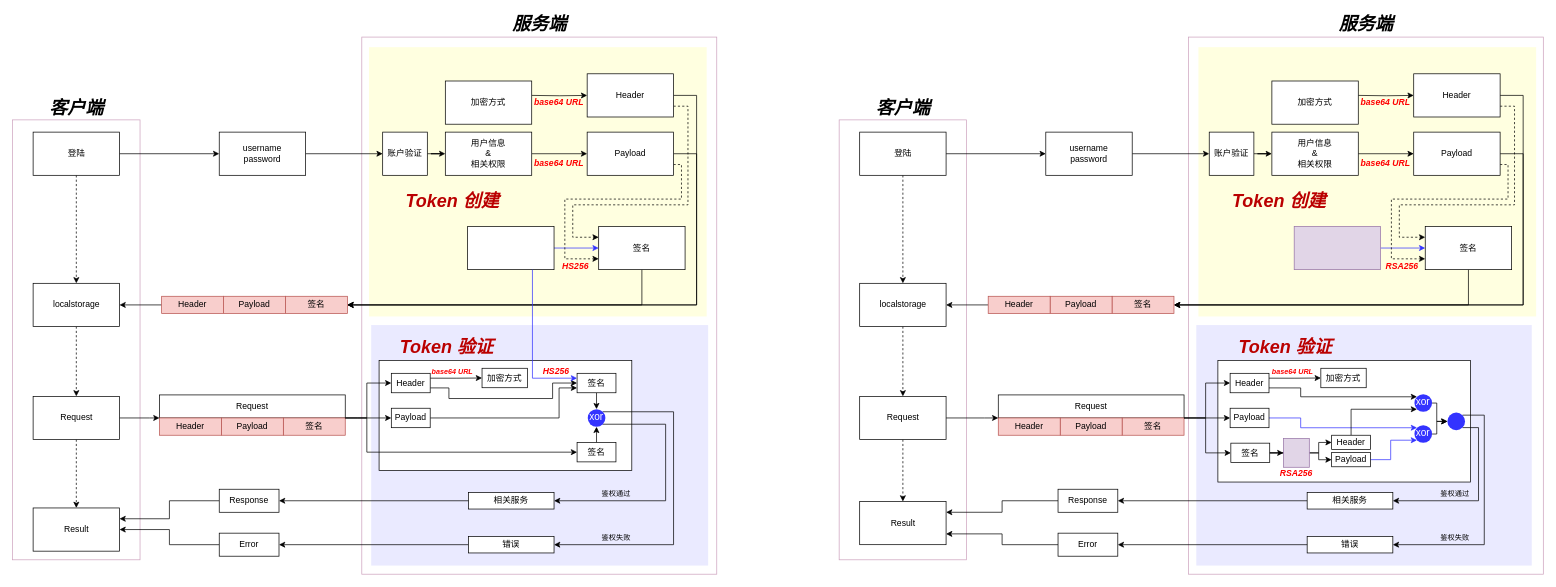
Some shapes in this 1556 by 587 pixel diagram are drawn without their labels. Each missing label, with the box of its shape:
and: (1447, 412, 1465, 430)
HMAC 密钥: (467, 226, 554, 270)
RSA 公钥: (1283, 438, 1309, 467)
RSA 私钥: (1293, 226, 1381, 270)
